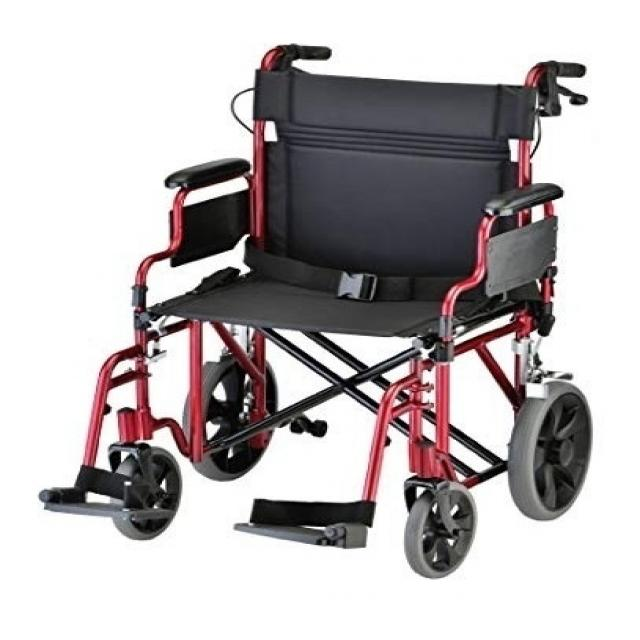wheelchair: (16, 36, 614, 588)
